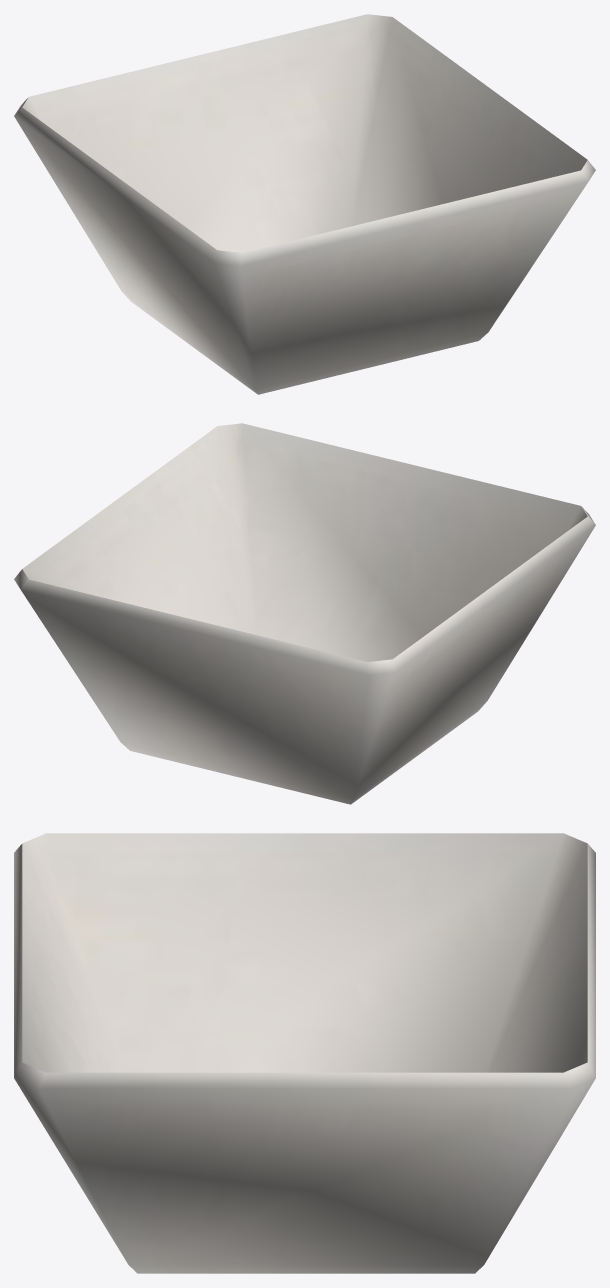
Rendered from T_Kitchen_Bowl_01.glb.
3 views of the same model, one above another, from view 1: azimuth 30°, elevation 25°; view 2: azimuth 150°, elevation 25°; view 3: azimuth 270°, elevation 25° (orthographic). The views are drawn at different scales.
Parts seen in each view (by area): view 1: T_Kitchen_Bowl_01; view 2: T_Kitchen_Bowl_01; view 3: T_Kitchen_Bowl_01.
Boxes of the visible parts, <box> form: T_Kitchen_Bowl_01: <box>14,14,595,394</box>; T_Kitchen_Bowl_01: <box>14,423,595,804</box>; T_Kitchen_Bowl_01: <box>14,833,595,1273</box>.
Bounding box in the file's own units: 0.191 × 0.0901 × 0.1907.
Materials: 1 (1 with a texture image).
